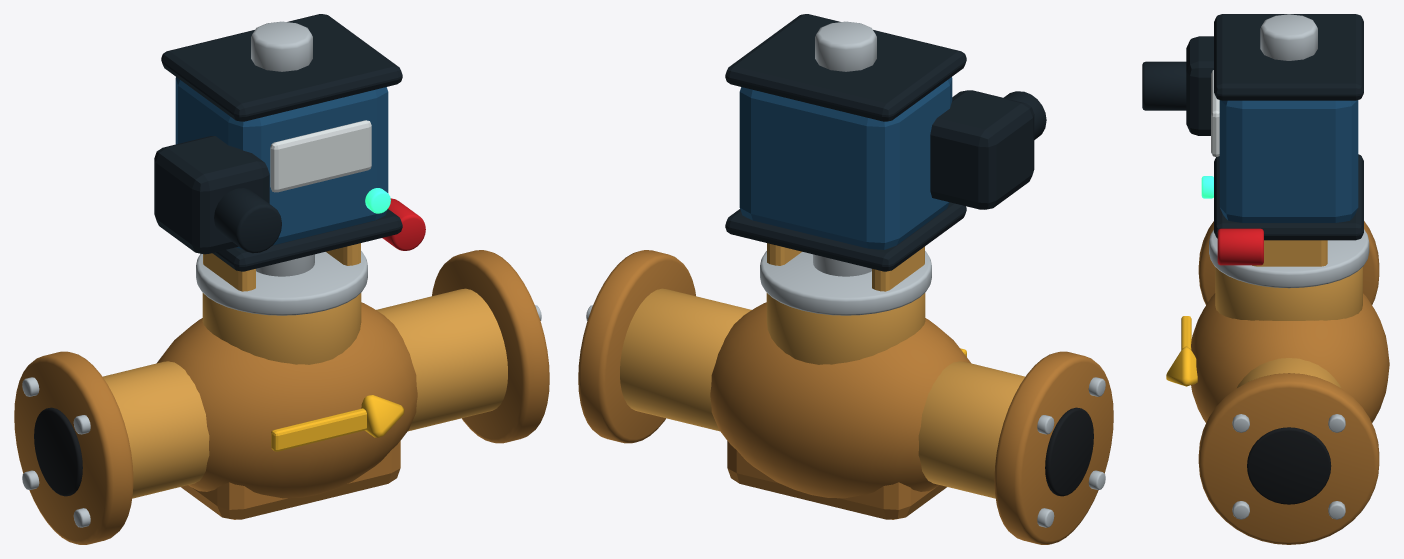
File: solenoid-valve-flanged-dn50-generic-v1.glb
The picture shows the model from 3 angles, left to right: view 1: azimuth 30°, elevation 25°; view 2: azimuth 150°, elevation 25°; view 3: azimuth 270°, elevation 25°; orthographic projection. The views are drawn at different scales.
Visible parts, largest first — view 1: VALVE_BODY_MAIN, INLET_FLANGE, SOLENOID_COIL_HOUSING, COIL_EDGE_0.330, OUTLET_NECK, OUTLET_FLANGE, INLET_NECK, ELECTRICAL_CONNECTOR, VALVE_BONNET, BONNET_CLAMP_RING, COIL_BLANK_NAMEPLATE, VALVE_BODY_LOWER_RIB (+9 smaller); view 2: VALVE_BODY_MAIN, SOLENOID_COIL_HOUSING, INLET_FLANGE, COIL_EDGE_0.330, OUTLET_NECK, ELECTRICAL_CONNECTOR, OUTLET_FLANGE, INLET_NECK, VALVE_BONNET, BONNET_CLAMP_RING, COIL_EDGE_0.180, VALVE_BODY_LOWER_RIB (+5 smaller); view 3: OUTLET_FLANGE, SOLENOID_COIL_HOUSING, VALVE_BODY_MAIN, COIL_EDGE_0.330, VALVE_BONNET, OUTLET_PORT_DARK, BONNET_CLAMP_RING, COIL_EDGE_0.180, ELECTRICAL_CONNECTOR, COIL_RETAINING_NUT, CABLE_GLAND, INLET_FLANGE (+6 smaller).
Boxes of the visible parts, left/top/right/bottom form: VALVE_BODY_MAIN: left=156, top=302, right=417, bottom=498; INLET_FLANGE: left=14, top=351, right=133, bottom=544; SOLENOID_COIL_HOUSING: left=175, top=77, right=388, bottom=249; COIL_EDGE_0.330: left=161, top=14, right=402, bottom=121; OUTLET_NECK: left=376, top=288, right=507, bottom=431; OUTLET_FLANGE: left=432, top=250, right=549, bottom=443; INLET_NECK: left=103, top=361, right=209, bottom=498; ELECTRICAL_CONNECTOR: left=154, top=136, right=269, bottom=254; VALVE_BONNET: left=202, top=293, right=361, bottom=364; BONNET_CLAMP_RING: left=196, top=251, right=367, bottom=315; COIL_BLANK_NAMEPLATE: left=270, top=120, right=371, bottom=192; VALVE_BODY_LOWER_RIB: left=181, top=441, right=400, bottom=519; VALVE_BODY_MAIN: left=710, top=302, right=971, bottom=498; SOLENOID_COIL_HOUSING: left=739, top=77, right=952, bottom=249; INLET_FLANGE: left=994, top=351, right=1113, bottom=544; COIL_EDGE_0.330: left=725, top=14, right=966, bottom=121; OUTLET_NECK: left=620, top=288, right=751, bottom=431; ELECTRICAL_CONNECTOR: left=930, top=90, right=1034, bottom=209; OUTLET_FLANGE: left=578, top=250, right=695, bottom=443; INLET_NECK: left=918, top=361, right=1024, bottom=498; VALVE_BONNET: left=766, top=293, right=925, bottom=364; BONNET_CLAMP_RING: left=760, top=251, right=931, bottom=315; COIL_EDGE_0.180: left=725, top=202, right=966, bottom=271; VALVE_BODY_LOWER_RIB: left=727, top=441, right=946, bottom=519; OUTLET_FLANGE: left=1198, top=373, right=1379, bottom=544; SOLENOID_COIL_HOUSING: left=1219, top=100, right=1358, bottom=222; VALVE_BODY_MAIN: left=1191, top=293, right=1389, bottom=422; COIL_EDGE_0.330: left=1214, top=14, right=1363, bottom=100; VALVE_BONNET: left=1215, top=267, right=1362, bottom=320; OUTLET_PORT_DARK: left=1247, top=427, right=1331, bottom=504; BONNET_CLAMP_RING: left=1209, top=229, right=1369, bottom=288; COIL_EDGE_0.180: left=1214, top=154, right=1363, bottom=240; ELECTRICAL_CONNECTOR: left=1186, top=36, right=1213, bottom=135; COIL_RETAINING_NUT: left=1260, top=14, right=1317, bottom=60; CABLE_GLAND: left=1142, top=61, right=1186, bottom=110; INLET_FLANGE: left=1198, top=221, right=1379, bottom=304.
Bounding box in the file's own units: 0.482 × 0.46 × 0.241.
